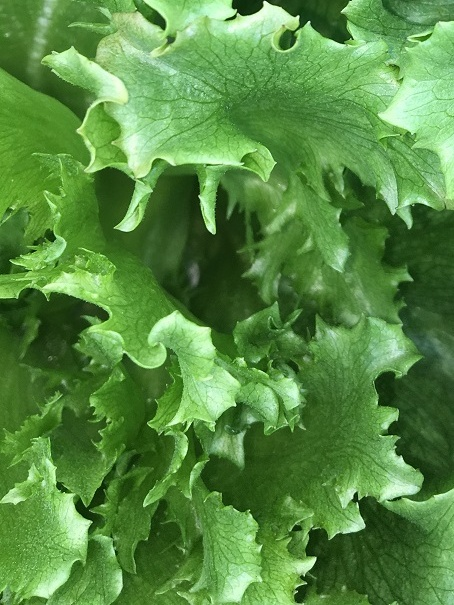tipburn: (275, 17, 294, 35), (71, 122, 88, 140), (129, 166, 147, 182)
